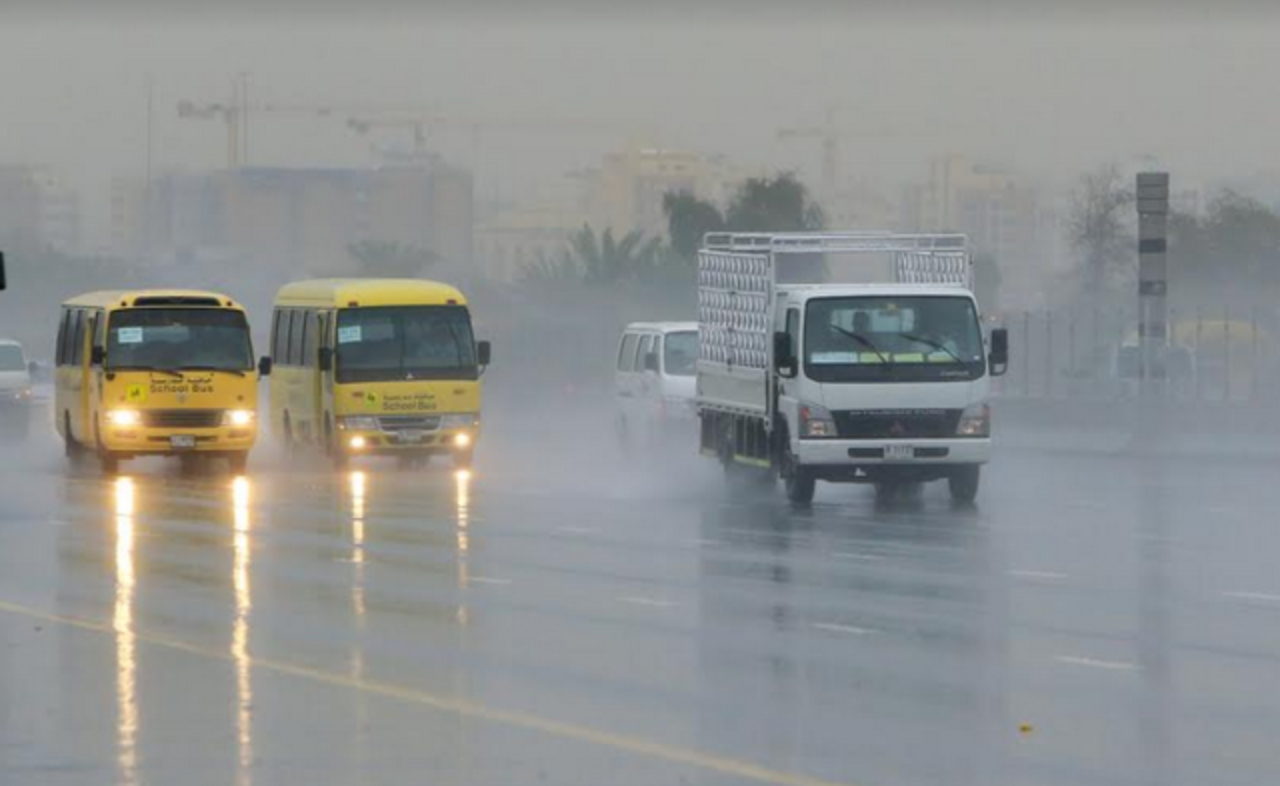bus: (261, 282, 482, 469), (48, 287, 263, 462)
car: (613, 318, 702, 463), (3, 339, 33, 445)
truck: (695, 232, 1000, 508)
